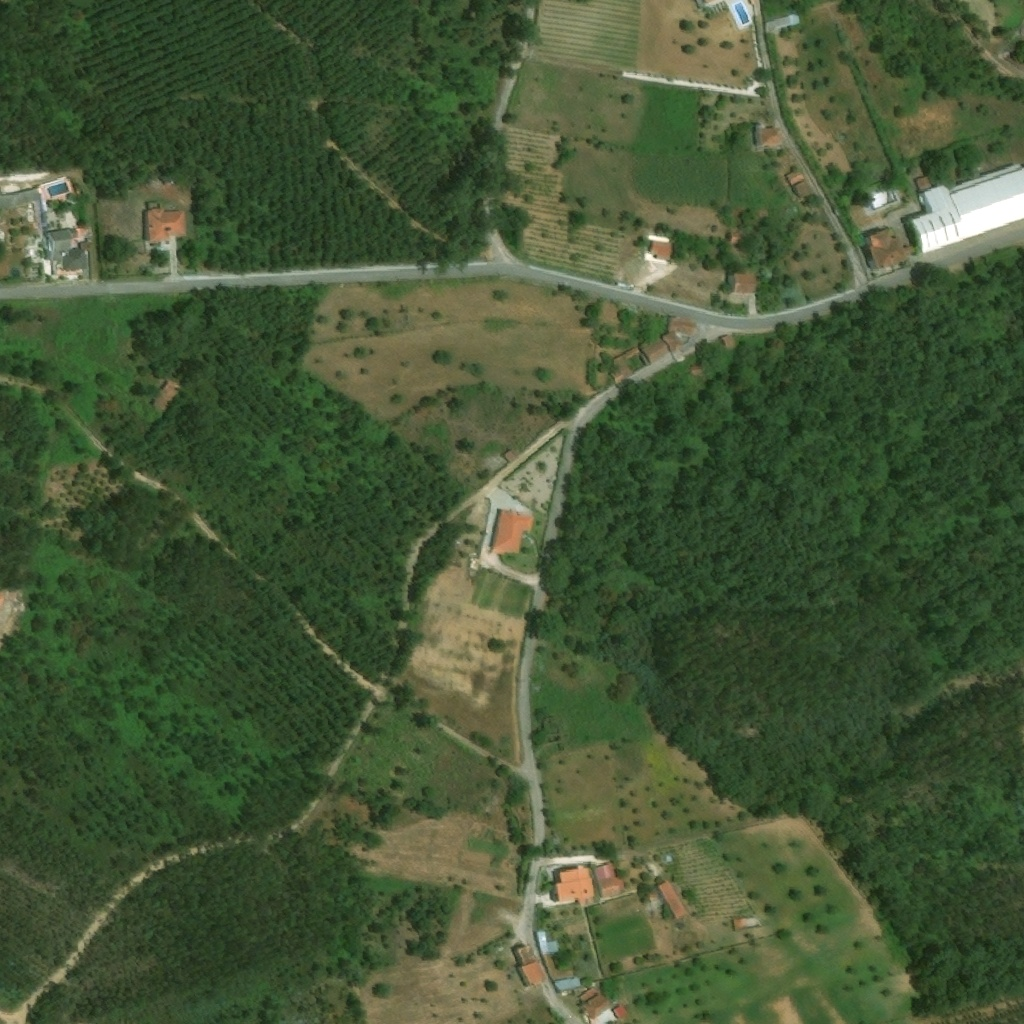0 no-damage: (909, 162, 1023, 255), (493, 508, 536, 555), (47, 226, 91, 270), (868, 228, 911, 272), (142, 203, 189, 242), (516, 942, 547, 988), (593, 861, 630, 899), (555, 866, 595, 901), (657, 878, 688, 920), (151, 378, 184, 415), (638, 334, 673, 366), (580, 986, 612, 1020), (612, 346, 642, 380), (0, 185, 41, 209), (765, 13, 800, 33), (791, 177, 816, 203), (537, 931, 564, 955), (733, 272, 762, 294), (757, 126, 787, 147), (660, 329, 686, 353), (669, 317, 698, 337), (651, 240, 674, 261), (554, 976, 583, 992), (785, 167, 807, 188), (720, 331, 740, 352), (611, 1001, 629, 1020), (734, 917, 762, 929), (609, 366, 626, 385), (915, 175, 931, 191), (77, 225, 92, 238), (691, 366, 705, 375), (80, 241, 93, 250)
4 un-classified: (703, 0, 749, 10)
